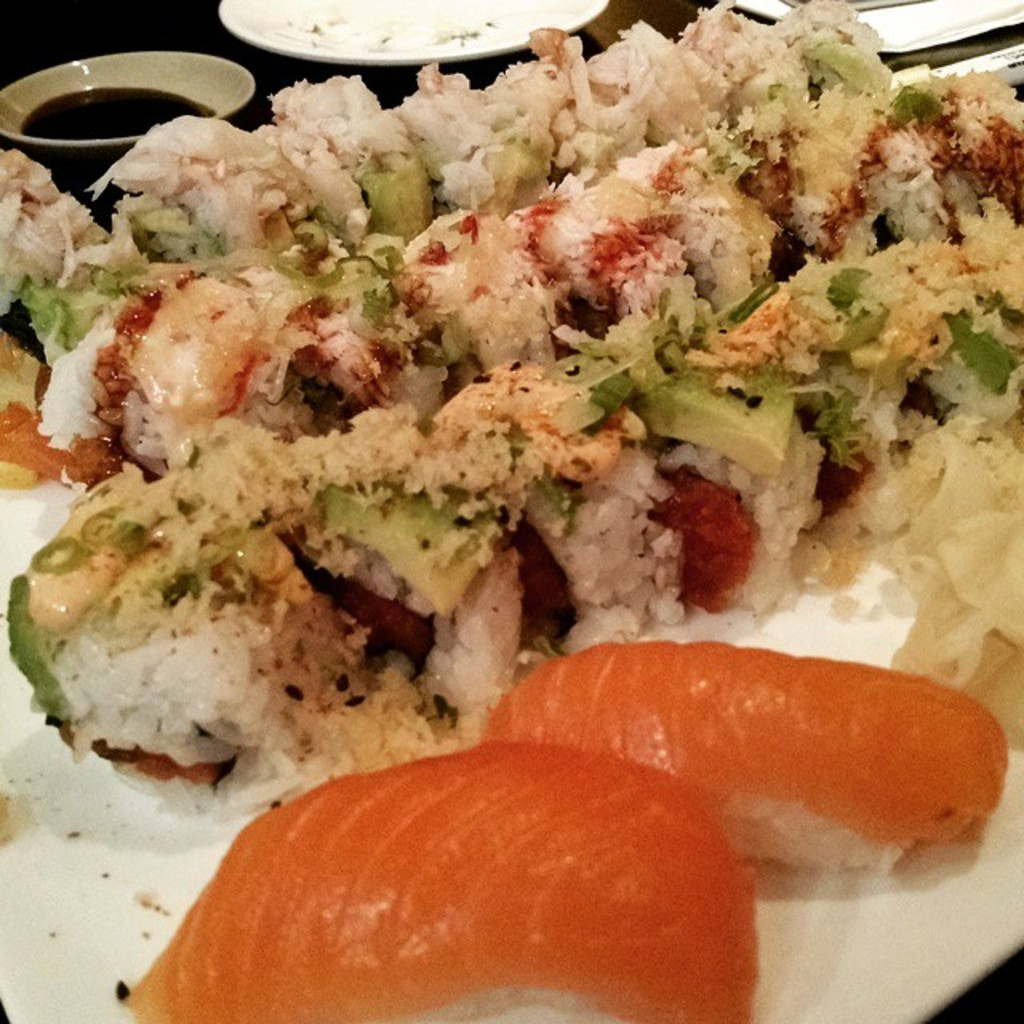sushi: (2, 0, 1022, 1021), (134, 749, 765, 1010), (539, 650, 978, 899)
